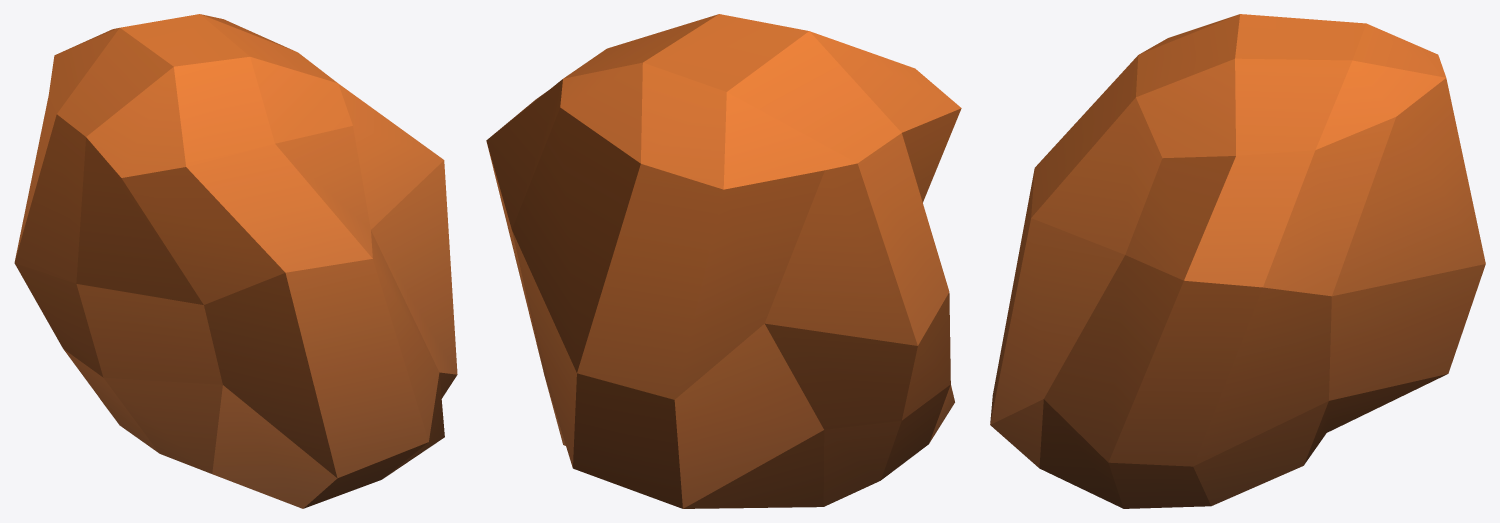
Rendered from Water_Rock1.fbx.
The picture shows the model from 3 angles, left to right: view 1: azimuth 30°, elevation 25°; view 2: azimuth 150°, elevation 25°; view 3: azimuth 270°, elevation 25°; orthographic projection. The views are drawn at different scales.
Parts seen in each view (by area): view 1: Rock_1; view 2: Rock_1; view 3: Rock_1.
Part boxes in pixels (x1,y1,x2,y2): Rock_1: [14, 14, 457, 508]; Rock_1: [486, 14, 961, 508]; Rock_1: [990, 14, 1485, 508].
Size of the model in its own units: 361 by 353 by 398.
1 material, 1 textured.
